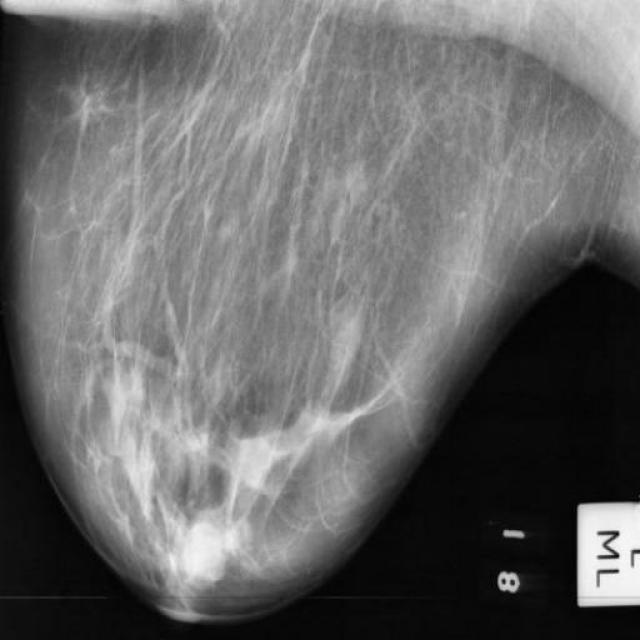cancer: (305, 123, 364, 219)
